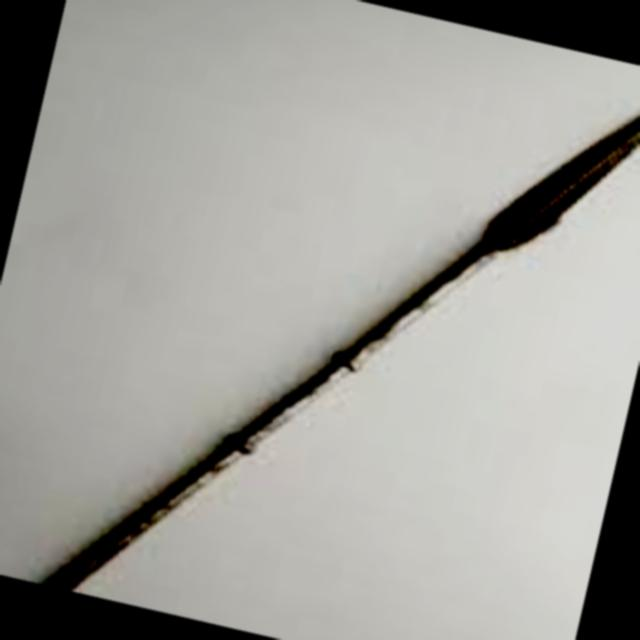spear: (21, 0, 640, 640)
